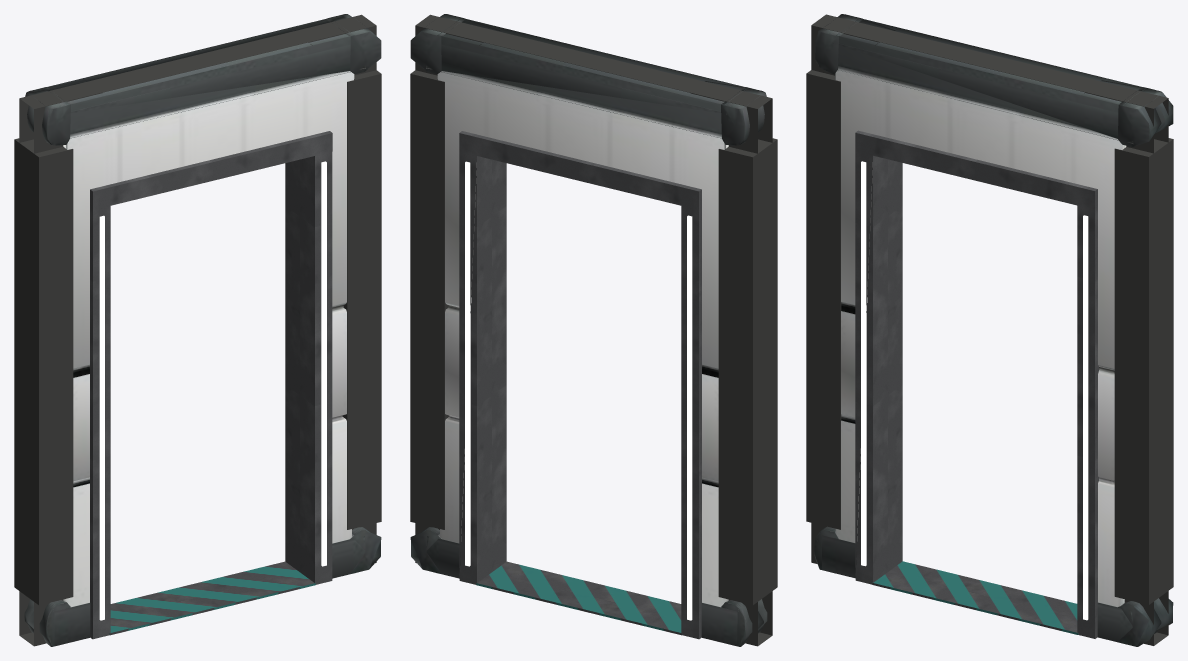
Rendered from wall-doorway.glb.
3 renders of one model, left to right at view 1: azimuth 30°, elevation 25°; view 2: azimuth 150°, elevation 25°; view 3: azimuth 330°, elevation 25°, orthographic.
Parts seen in each view (by area): view 1: object 1, DoorLining_gunmetal, DoorLining_stripes, DoorLining_glow; view 2: object 1, DoorLining_gunmetal, DoorLining_stripes, DoorLining_glow; view 3: object 1, DoorLining_gunmetal, DoorLining_stripes, DoorLining_glow.
Part boxes in pixels (left/top/right/bottom): object 1: left=14, top=14, right=381, bottom=646; DoorLining_gunmetal: left=90, top=131, right=332, bottom=639; DoorLining_stripes: left=109, top=561, right=315, bottom=635; DoorLining_glow: left=99, top=161, right=326, bottom=620; object 1: left=410, top=14, right=777, bottom=646; DoorLining_gunmetal: left=459, top=131, right=701, bottom=639; DoorLining_stripes: left=476, top=561, right=682, bottom=635; DoorLining_glow: left=465, top=161, right=692, bottom=620; object 1: left=806, top=14, right=1173, bottom=646; DoorLining_gunmetal: left=855, top=130, right=1099, bottom=638; DoorLining_stripes: left=872, top=561, right=1078, bottom=634; DoorLining_glow: left=861, top=161, right=1088, bottom=620.
Bounding box in the file's own units: 2 × 3 × 0.32.
Materials: 4 (3 with a texture image).
